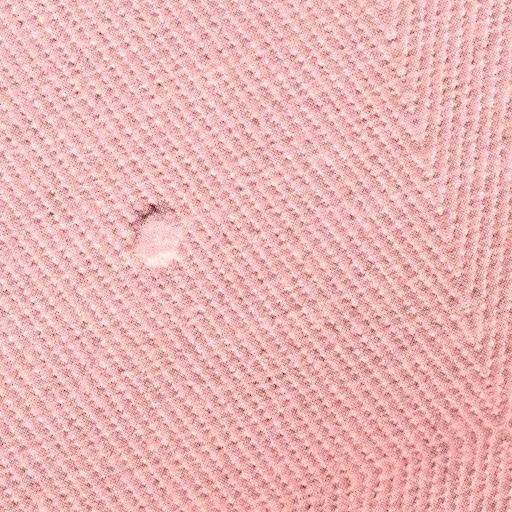knot: (126, 202, 193, 272)
